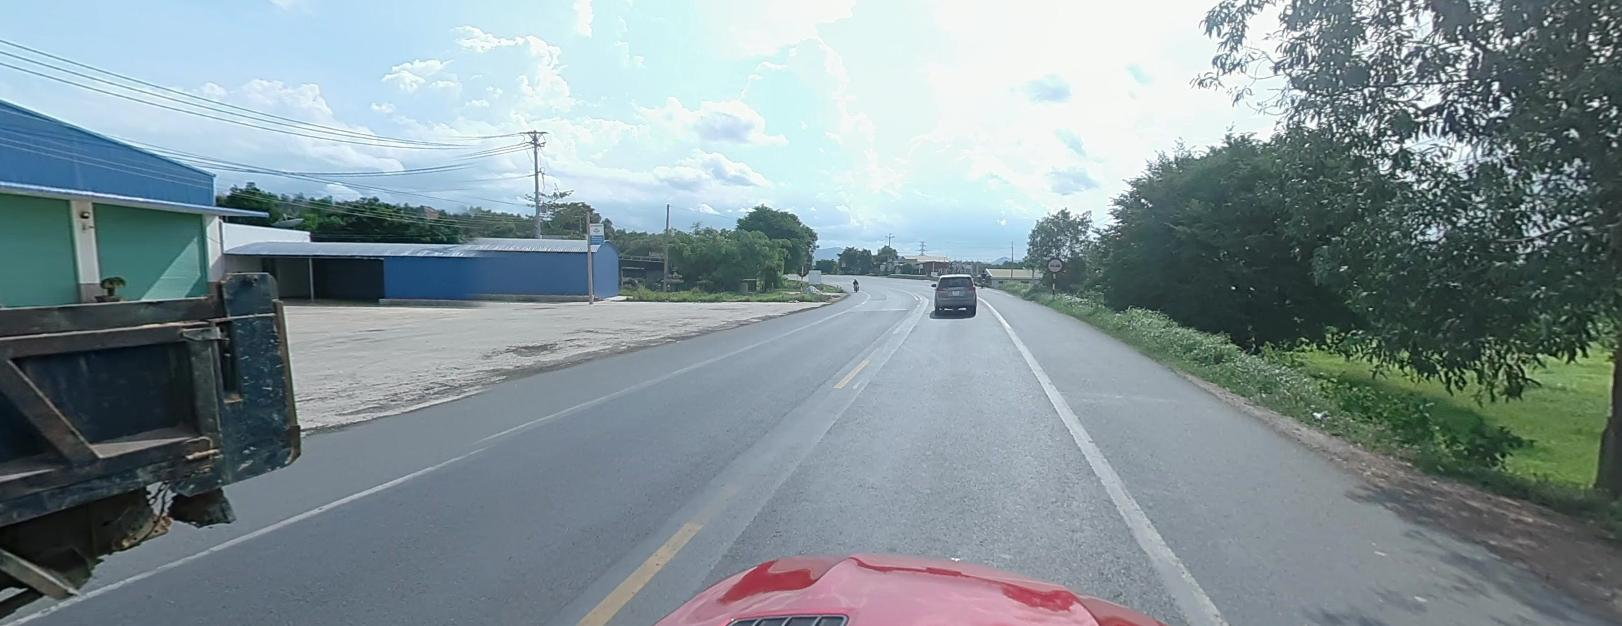Cam con lai: (1047, 256, 1062, 270)
